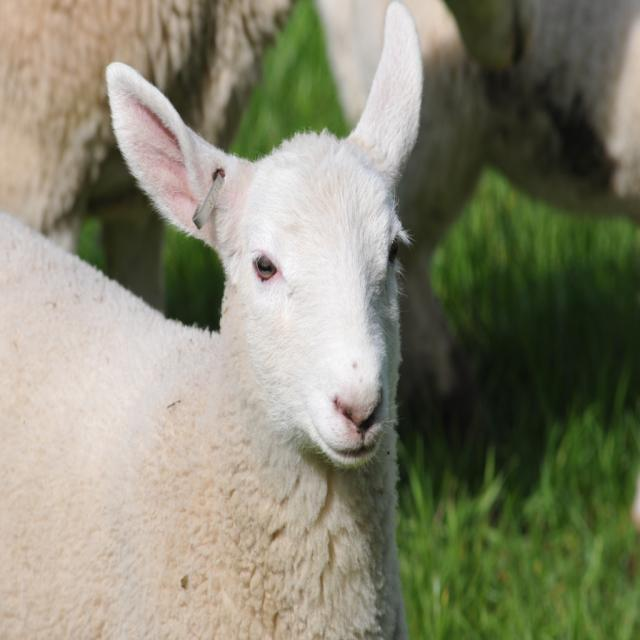Sheep: (0, 0, 424, 640)
